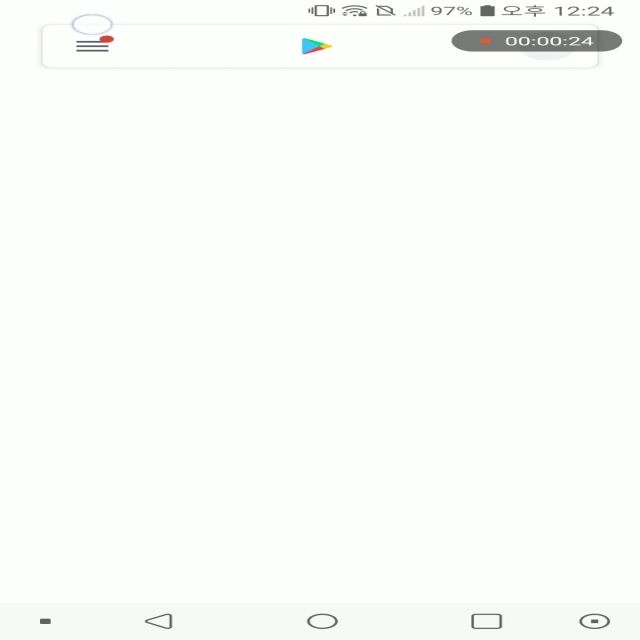Cursor: (72, 13, 116, 36)
